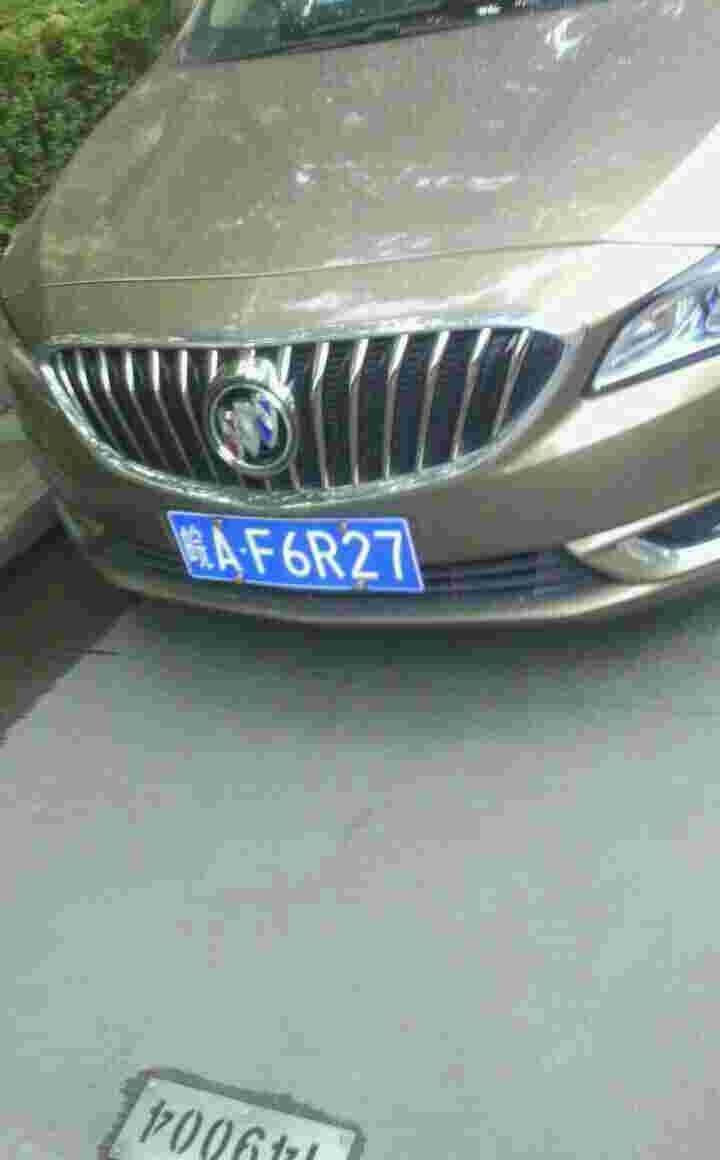car: (163, 511, 426, 591)
